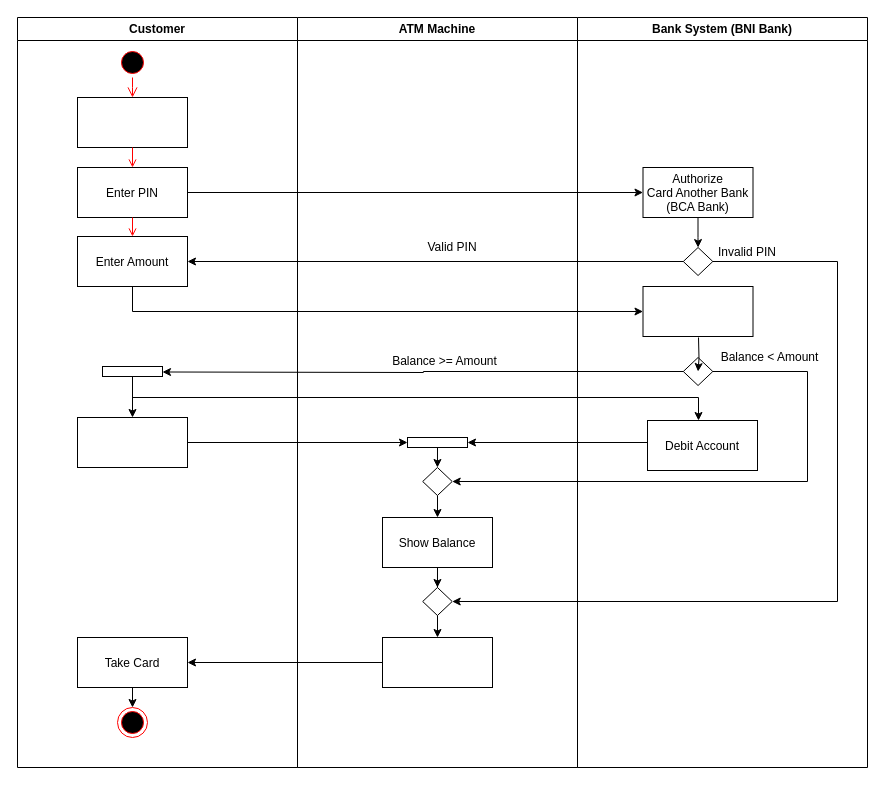
The diagram is 885 pixels wide and 785 high, and some of its shapes have lost their labels. The centre of each missing label's shape, as x and y in pixels:
Check Account Balance: point (697, 311)
Eject Card: point (437, 662)
Insert BCA Card: point (132, 122)
Take Money from Slot: point (132, 442)
